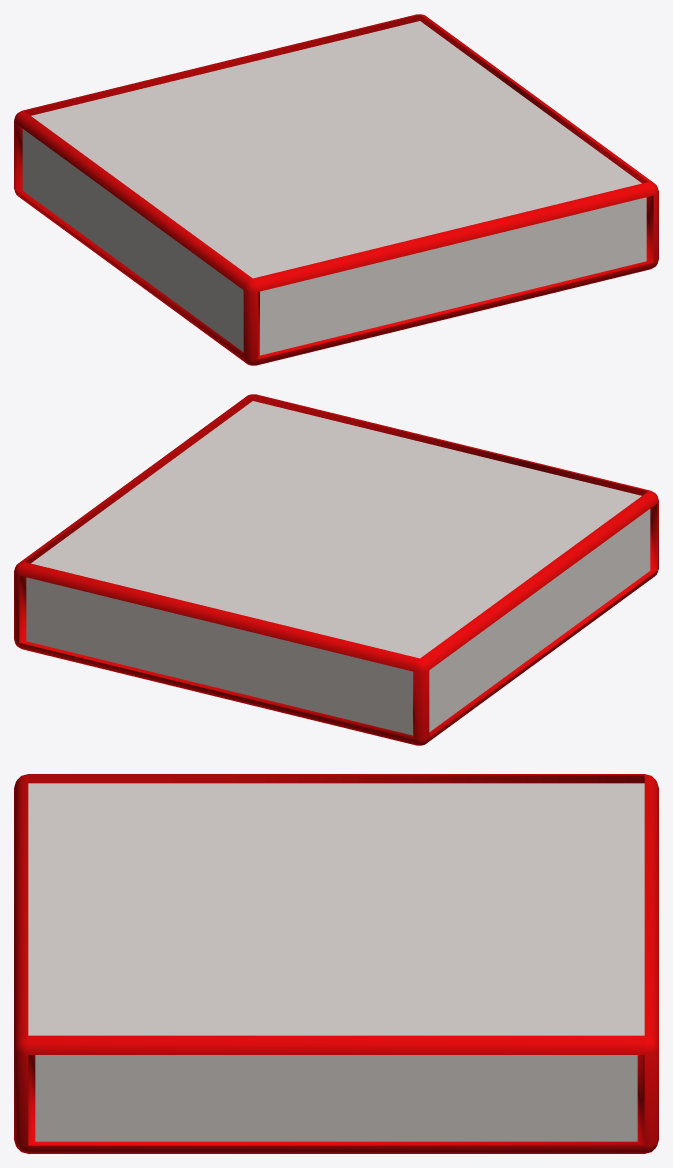
File: SM_Cube_4MUp.fbx
3 views of the same model, one above another, from view 1: azimuth 30°, elevation 25°; view 2: azimuth 150°, elevation 25°; view 3: azimuth 270°, elevation 25° (orthographic). The views are drawn at different scales.
Visible parts, largest first — view 1: Cube.4mUp; view 2: Cube.4mUp; view 3: Cube.4mUp.
Part boxes in pixels (x1,y1,x2,y2): Cube.4mUp: (14, 14, 658, 365); Cube.4mUp: (14, 394, 658, 745); Cube.4mUp: (14, 774, 658, 1153).
Bounding box in the file's own units: 100 × 20 × 100.
